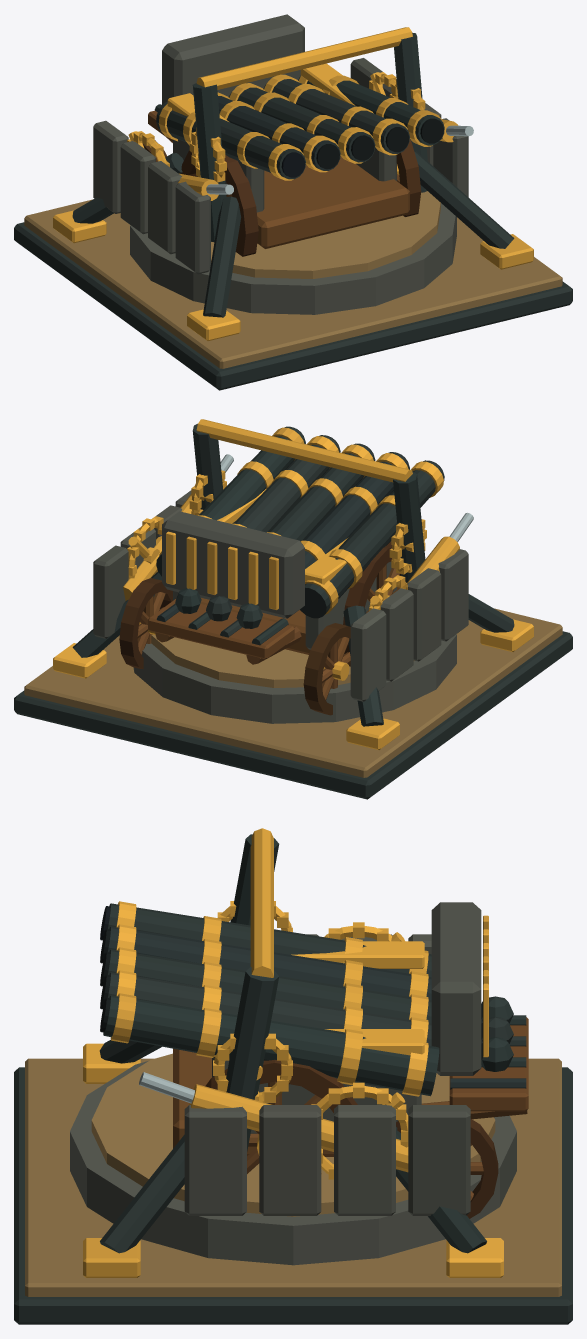
3 renders of one model, top to bottom at view 1: azimuth 30°, elevation 25°; view 2: azimuth 150°, elevation 25°; view 3: azimuth 270°, elevation 25°, orthographic. The views are drawn at different scales.
Parts seen in each view (by area): view 1: cannon_level13_structure, cannon_level13_metal; view 2: cannon_level13_structure, cannon_level13_metal; view 3: cannon_level13_structure, cannon_level13_metal.
Part boxes in pixels (bbox=[...]): cannon_level13_structure: bbox=[14, 14, 572, 390]; cannon_level13_metal: bbox=[53, 27, 533, 340]; cannon_level13_structure: bbox=[14, 423, 572, 799]; cannon_level13_metal: bbox=[53, 419, 533, 749]; cannon_level13_structure: bbox=[14, 834, 572, 1324]; cannon_level13_metal: bbox=[83, 828, 503, 1277].
Size of the model in its own units: 3.6 by 2.22 by 3.6.
